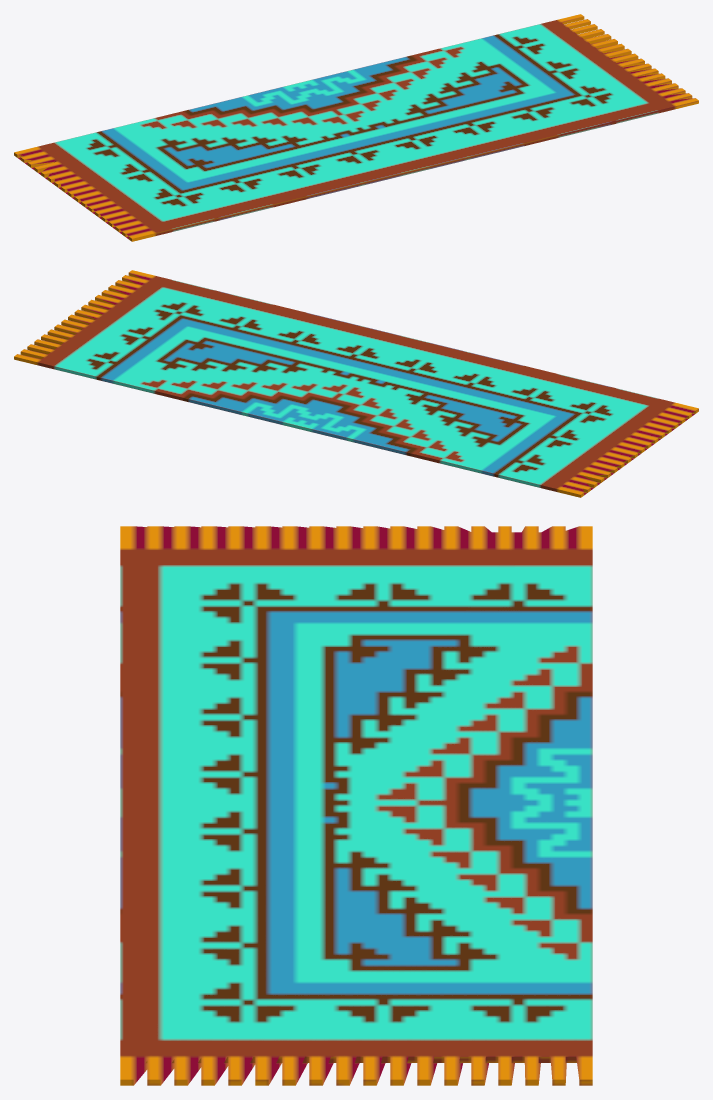
File: picthure-0.fbx
3 renders of one model, top to bottom at view 1: azimuth 30°, elevation 25°; view 2: azimuth 150°, elevation 25°; view 3: azimuth 270°, elevation 25°, orthographic. The views are drawn at different scales.
Visible parts, largest first — view 1: Untitled; view 2: Untitled; view 3: Untitled.
Boxes of the visible parts, left/top/right/bottom form: Untitled: left=14, top=14, right=698, bottom=241; Untitled: left=14, top=270, right=698, bottom=497; Untitled: left=120, top=526, right=592, bottom=1085.
Bounding box in the file's own units: 1940 × 10 × 700.
Materials: 1 (1 with a texture image).
